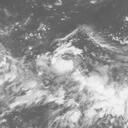cyclone: (47, 48, 93, 95)
